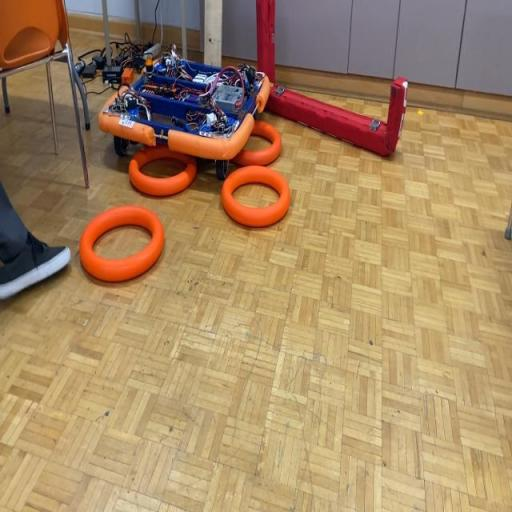robot: (92, 44, 273, 164)
